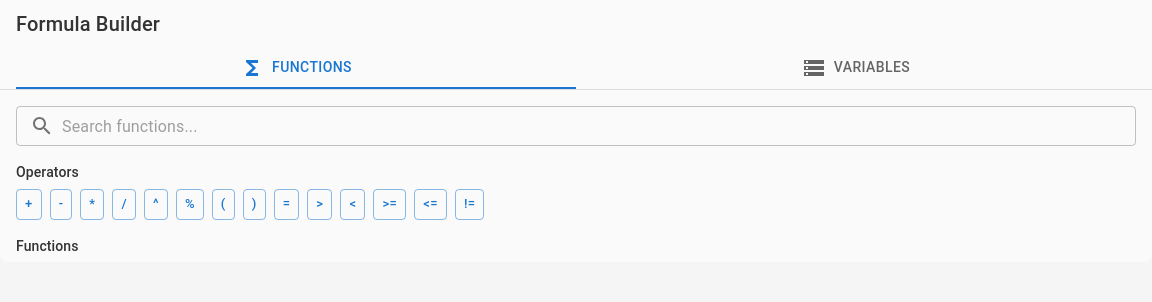
it: PaletteContainer › Variable Palette Integration › should show empty state when no variables exist
Click the tab "Variables" at (856, 68), box [576,47,1136,89]
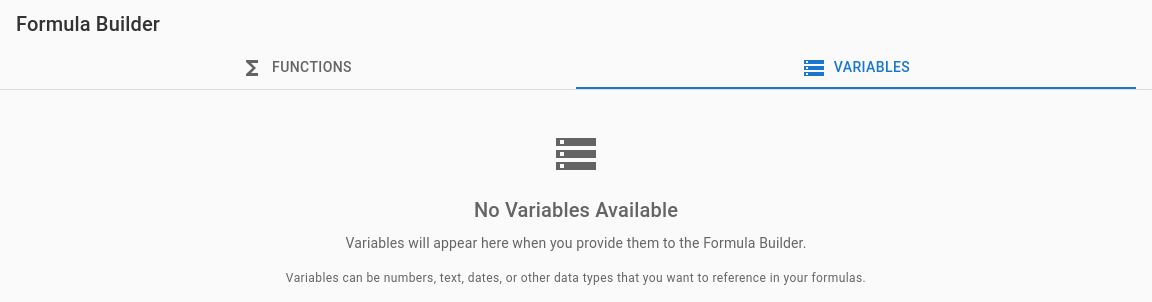
Now the heading "No Variables Available" is shown, box [474,194,678,226]
Now the text "Variables will appear here" is shown, box [346,235,806,251]
